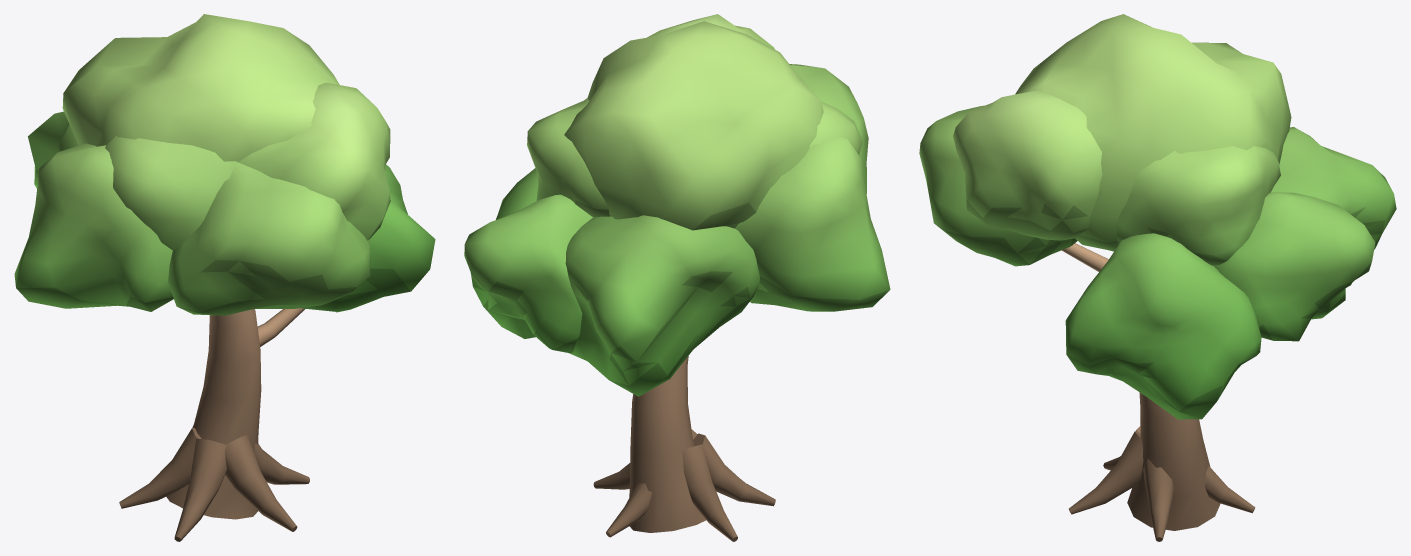
The model's file is Tree_Trunk.glb.
The picture shows the model from 3 angles, left to right: view 1: azimuth 30°, elevation 25°; view 2: azimuth 150°, elevation 25°; view 3: azimuth 270°, elevation 25°; orthographic projection. The views are drawn at different scales.
Visible parts, largest first — view 1: Tree_Foliage, Tree_Trunk; view 2: Tree_Foliage, Tree_Trunk; view 3: Tree_Foliage, Tree_Trunk.
Boxes of the visible parts, bbox=[...] form: Tree_Foliage: bbox=[14, 14, 435, 315]; Tree_Trunk: bbox=[119, 308, 309, 541]; Tree_Foliage: bbox=[464, 14, 890, 396]; Tree_Trunk: bbox=[593, 356, 775, 541]; Tree_Foliage: bbox=[919, 14, 1396, 419]; Tree_Trunk: bbox=[1062, 243, 1255, 541].
Size of the model in its own units: 6.34 by 7.44 by 6.7.
